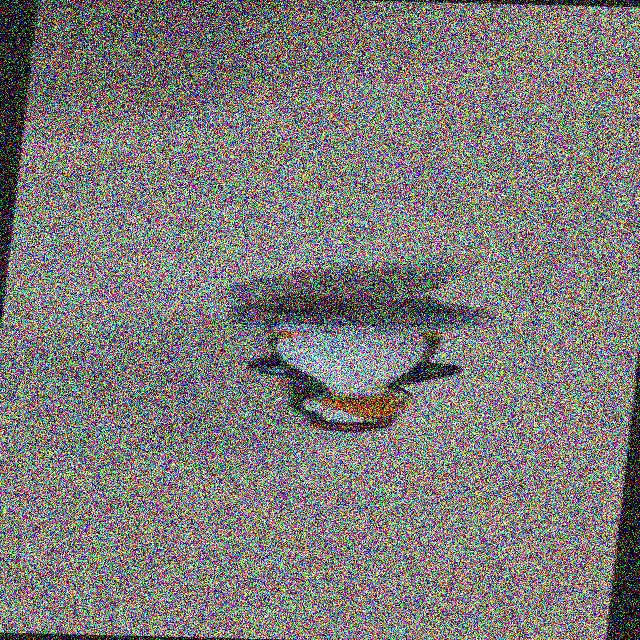Penguin: (222, 292, 483, 440)
